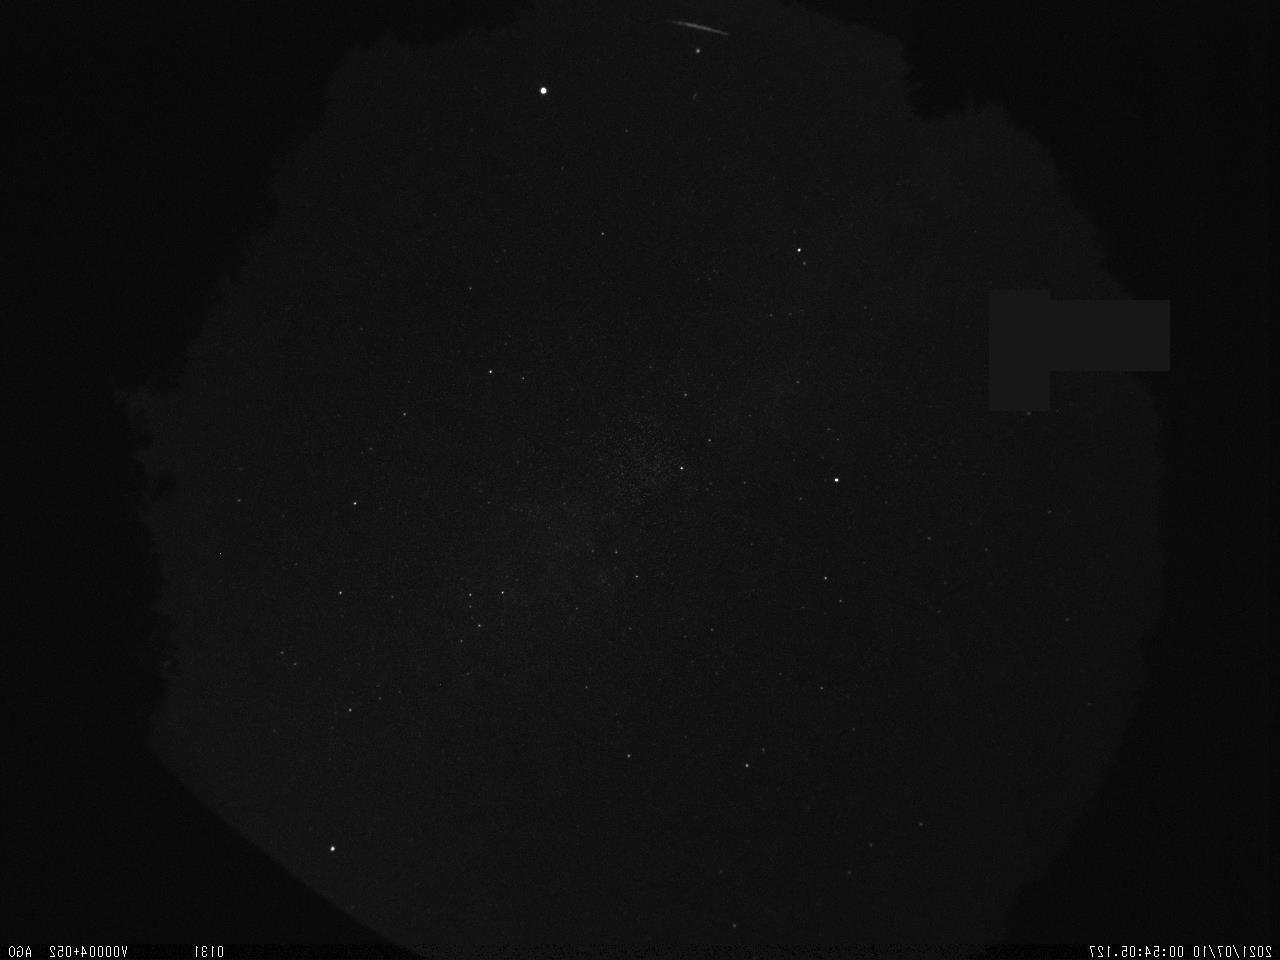meteor: (643, 13, 738, 41)
